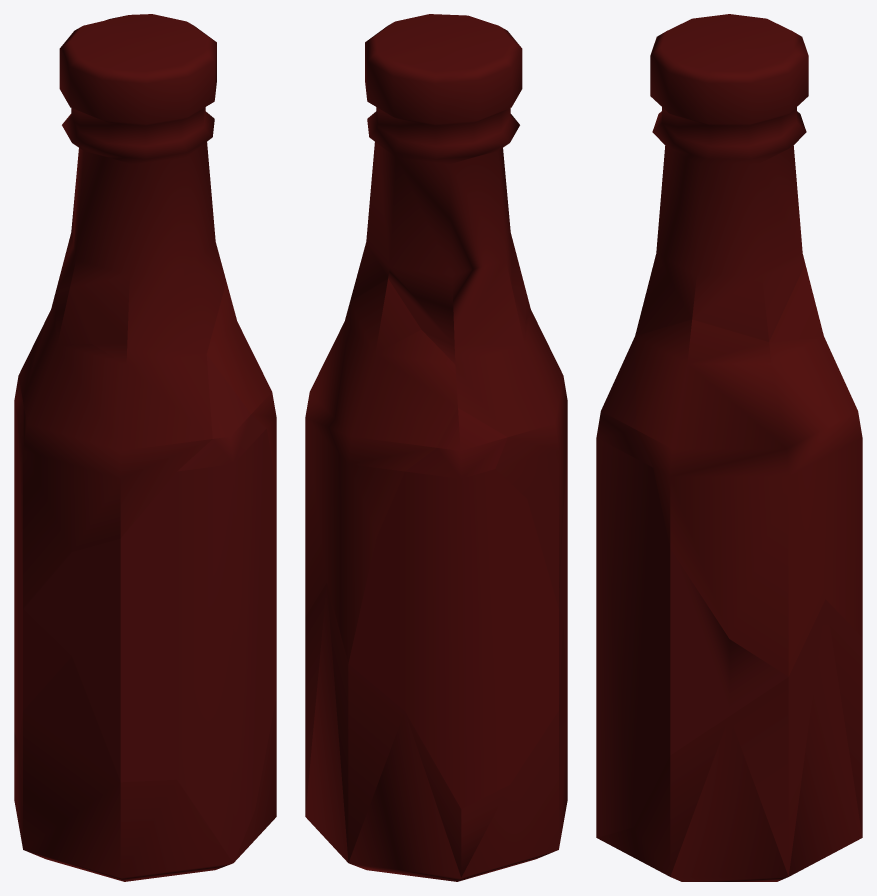
The model's file is kitchen_ketchup_bottle_broken.DAE.
The picture shows the model from 3 angles, left to right: view 1: azimuth 30°, elevation 25°; view 2: azimuth 150°, elevation 25°; view 3: azimuth 270°, elevation 25°; orthographic projection.
Parts seen in each view (by area): view 1: piece4, piece1, piece6, piece2, piece3, piece5; view 2: piece3, piece1, piece2, piece5, piece6, piece4; view 3: piece5, piece1, piece2, piece4.
Boxes of the visible parts, box(x1,y1,x2,y2) form: piece4: box(23, 355, 276, 862); piece1: box(55, 14, 226, 354); piece6: box(17, 288, 212, 608); piece2: box(14, 656, 276, 881); piece3: box(14, 343, 71, 744); piece5: box(206, 282, 276, 487); piece3: box(348, 408, 563, 808); piece1: box(350, 14, 525, 344); piece2: box(305, 583, 567, 881); piece5: box(305, 279, 457, 663); piece6: box(422, 288, 567, 608); piece4: box(559, 463, 567, 700); piece5: box(635, 264, 862, 676); piece1: box(635, 14, 808, 341); piece2: box(597, 599, 862, 881); piece4: box(596, 337, 788, 837).
Size of what is drawn, in the model's own units: 0.073 by 0.2473 by 0.0749.
